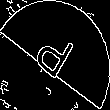P_SW: (30, 24, 80, 86)
